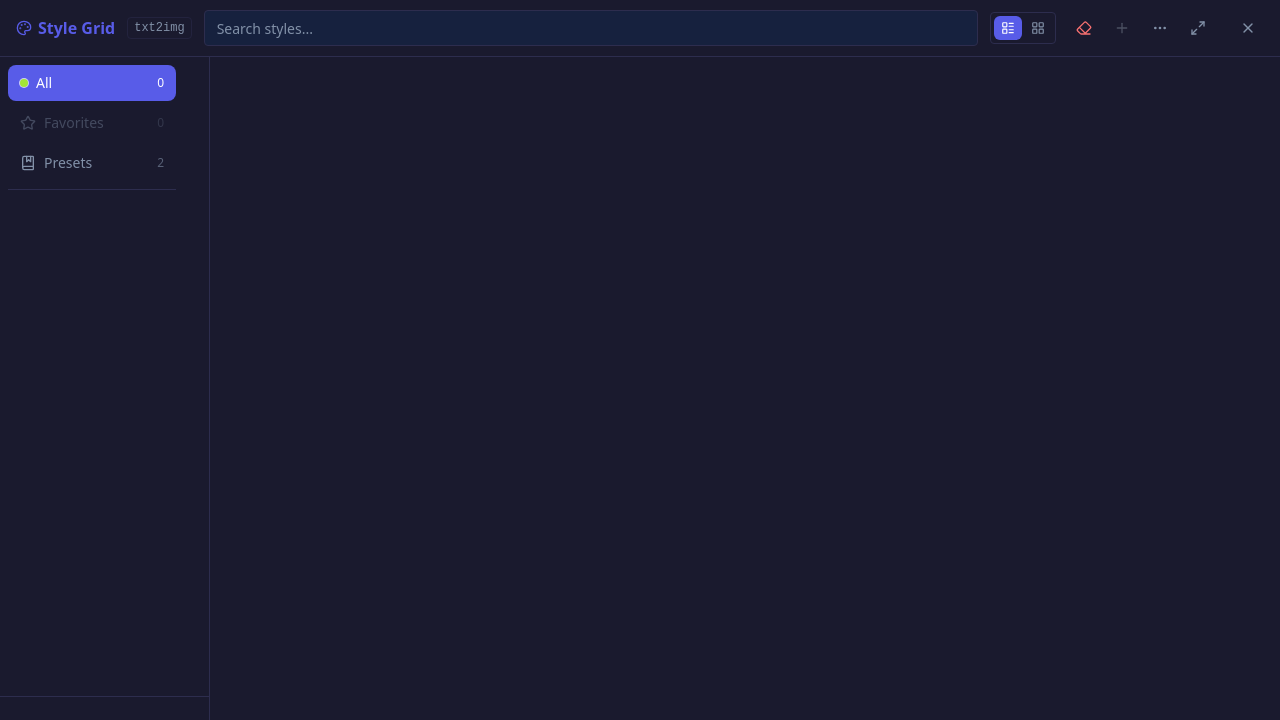
one-row header › More opens a menu with exactly Import / Export… and Backup & restore…
Click the button named "More": {"x": 1160, "y": 28} [1144,12,1176,44]
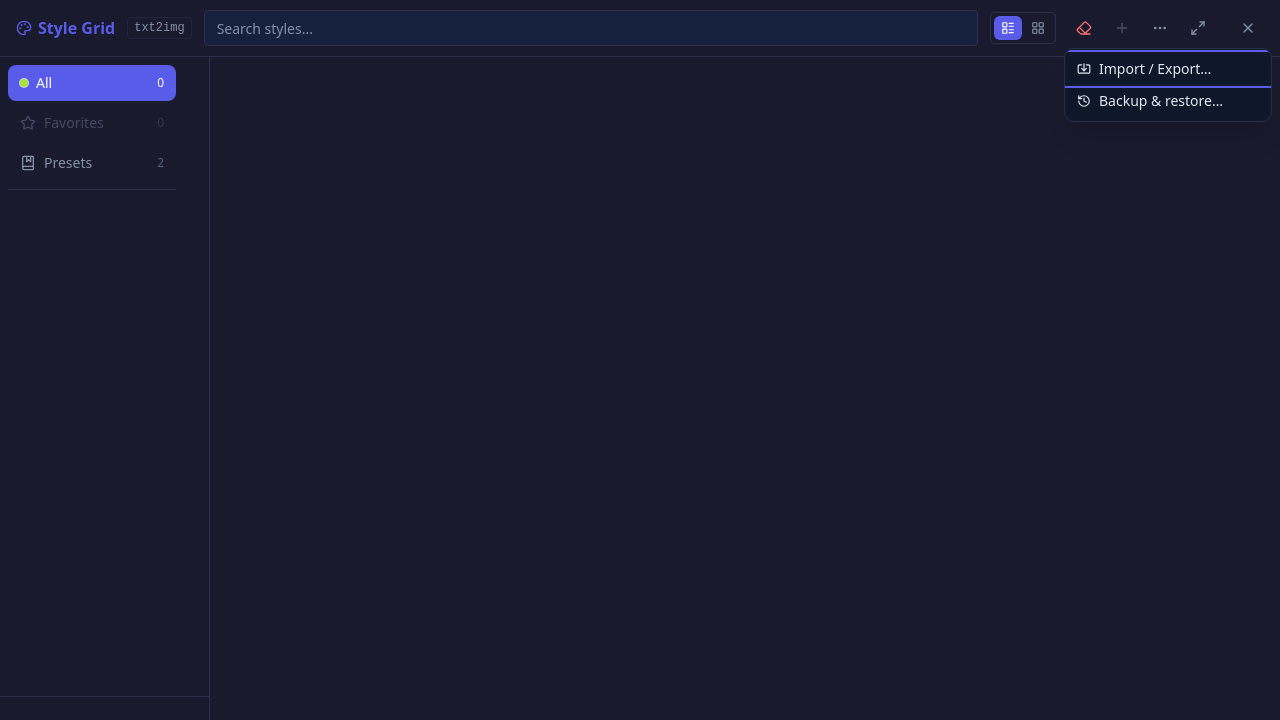
Now the menu is shown, box [1064,48,1272,122]
